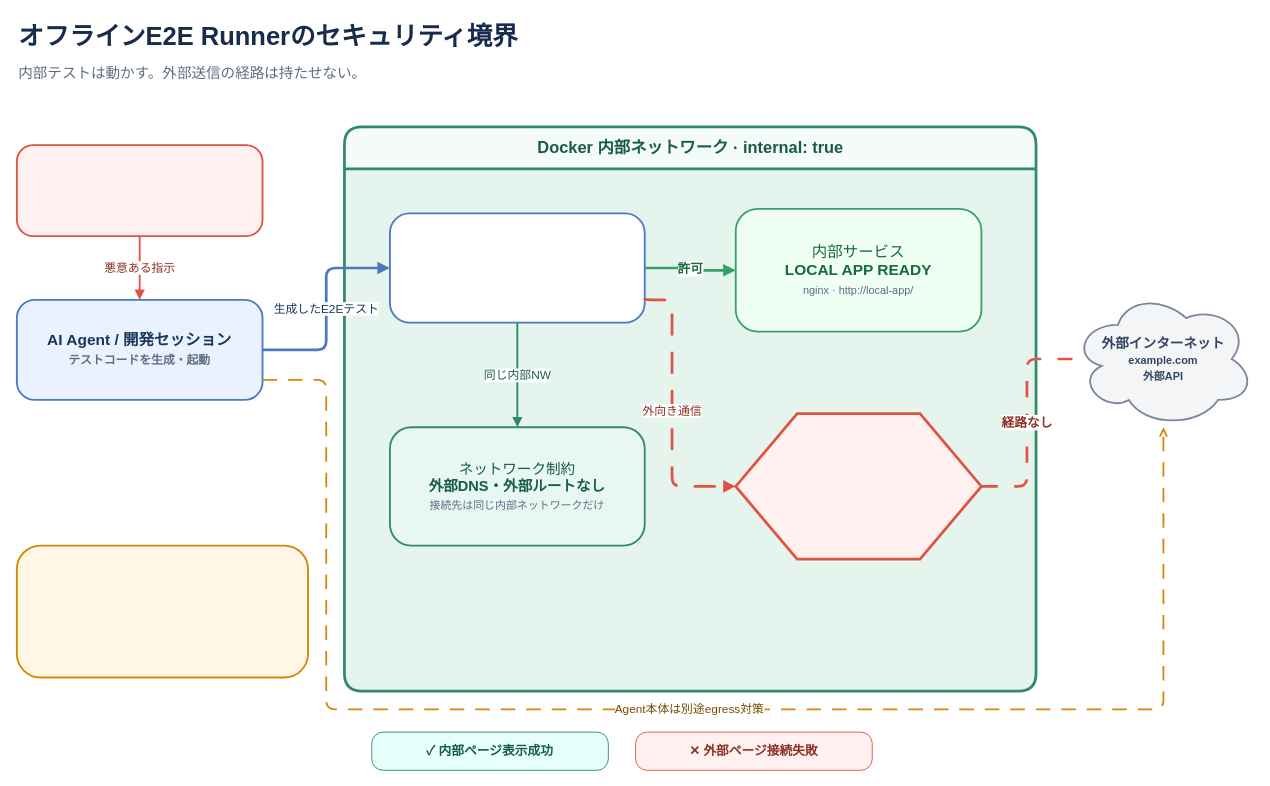
Image size: 1270x786. Some labels were removed from this diagram. Each missing label, with the centre of its shape:
"Playwright E2E Runner 別コンテナでブラウザ実行" belongs at [517,267].
"⚠ 残存リスク Agent本体の curl / git push / API通信は、この境界の外。 別のegress制御・承認・監査が必要。" belongs at [161,611].
"外部アクセス BLOCKED 外部DNS解決失敗" belongs at [858,486].
"未信頼な入力 プロンプトインジェクション" belongs at [139,190].
